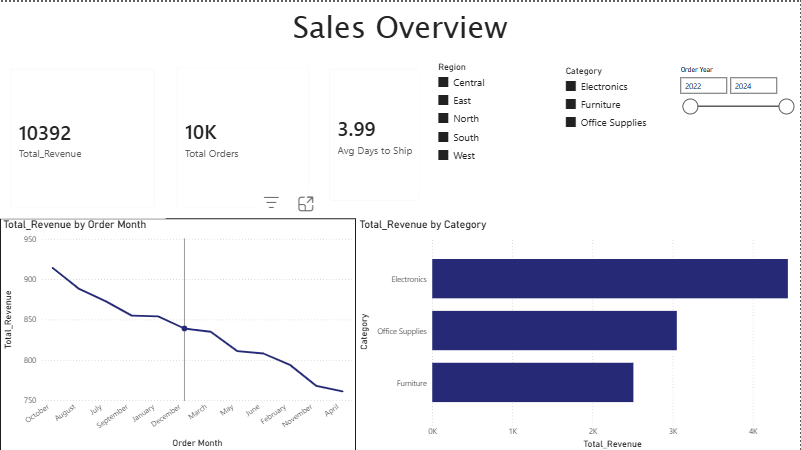

Layout of this report page (visuals, bound fields, positions):
{"tool":"powerbi","page":{"name":"Sales_Overview","canvas":[1280,720],"ordinal":0},"visuals":[{"type":"cardVisual","fields":{"Data":["CountNonNull(Orders (3).Order ID)"]},"box":[265,88.3,245,258.3],"z":0},{"type":"lineChart","fields":{"Category":["Orders (3).Order Month"],"Y":["CountNonNull(Orders (3).Total_Revenue)"]},"box":[0,346.7,570,373.3],"z":1000},{"type":"cardVisual","fields":{"Data":["Avg(Orders (3).Days to Ship)"]},"box":[510,90,178.3,245],"z":2000},{"type":"clusteredBarChart","fields":{"Category":["Products (3).Category"],"Y":["CountNonNull(Orders (3).Total_Revenue)"]},"box":[569.2,346.2,710.8,373.8],"z":3000},{"type":"slicer","fields":{"Values":["Orders (3).Region"]},"box":[688.3,90,203.3,175],"z":4000},{"type":"slicer","fields":{"Values":["Orders (3).Order Year"]},"box":[1076.7,95,203.3,98.3],"z":5000},{"type":"slicer","fields":{"Values":["Products (3).Category"]},"box":[891.7,95,185,170],"z":6000},{"type":"textbox","box":[0,0,1280,90.8],"z":7000},{"type":"cardVisual","fields":{"Data":["Min(Orders (3).Total_Revenue)"]},"box":[0,90,265,256.7],"z":8000}]}

Visuals, with their boxes in screenshot pixels (x1, y1, x2, y2), scaled from the page's 1280x720 canvas onto the 801x450 screenshot:
cardVisual - CountNonNull(Orders (3).Order ID): locate(166, 55, 319, 217)
lineChart - Orders (3).Order Month x CountNonNull(Orders (3).Total_Revenue): locate(0, 217, 357, 449)
cardVisual - Avg(Orders (3).Days to Ship): locate(319, 56, 431, 209)
clusteredBarChart - Products (3).Category x CountNonNull(Orders (3).Total_Revenue): locate(356, 216, 800, 449)
slicer - Orders (3).Region: locate(431, 56, 558, 166)
slicer - Orders (3).Order Year: locate(674, 59, 800, 121)
slicer - Products (3).Category: locate(558, 59, 674, 166)
textbox: locate(0, 0, 800, 57)
cardVisual - Min(Orders (3).Total_Revenue): locate(0, 56, 166, 217)
